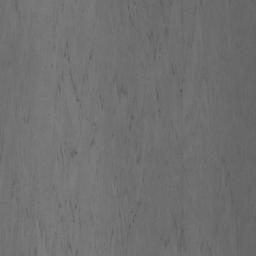Silk spot: (1, 0, 217, 256), (155, 209, 217, 256), (0, 0, 37, 66), (215, 157, 237, 213), (0, 128, 25, 162), (7, 104, 30, 124)
